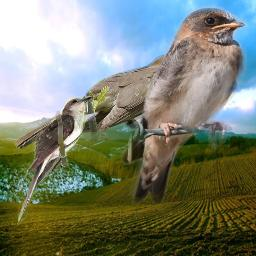Cuckoo: (13, 52, 194, 149), (18, 96, 93, 223)
Swallow: (120, 5, 247, 204)
